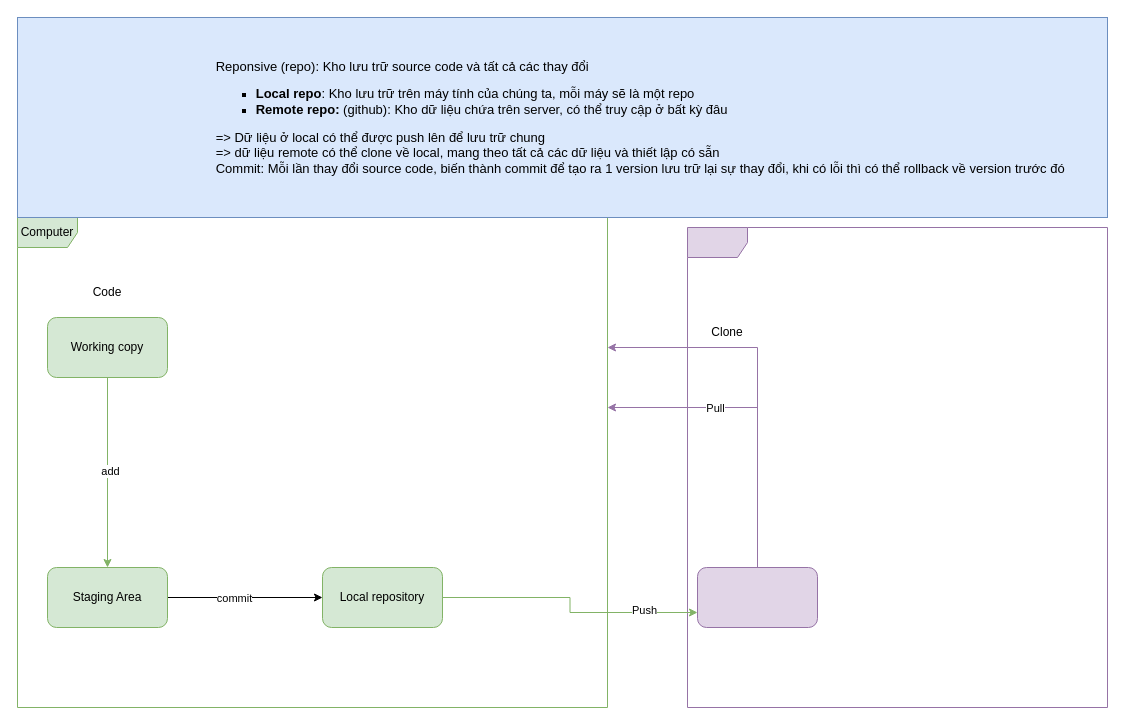
This 1125x725 diagram has some shape labels left out. The shapes that lost their labels are listed below. From the top down, each one's box as (x1, y1, x2, y2) in pixels, then its label:
(686, 226, 1108, 708): Github
(696, 566, 818, 628): remote repository
